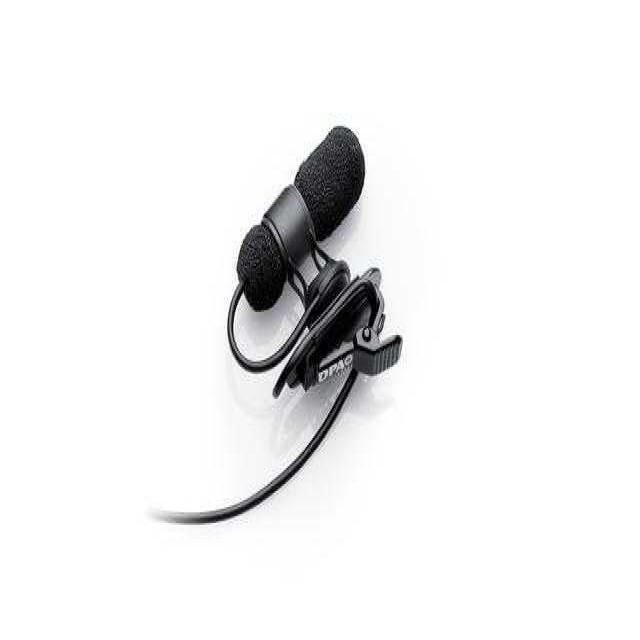microphone: (236, 126, 366, 316)
